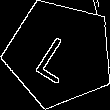L_NE: (32, 24, 87, 84)
